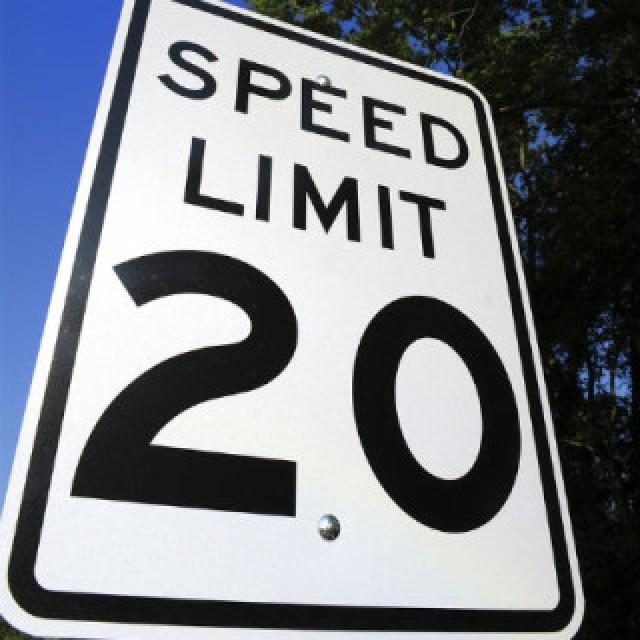speedLimit20: (0, 0, 594, 638)
